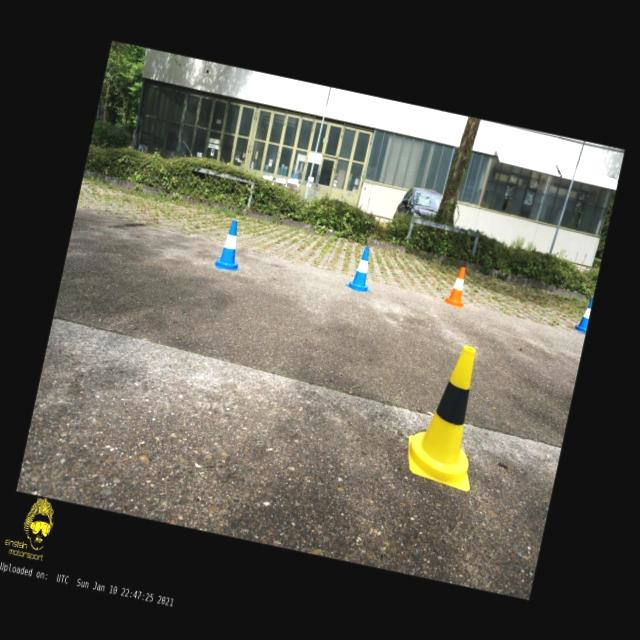blue_cone: (213, 218, 247, 272), (344, 245, 378, 293), (574, 296, 592, 334)
orange_cone: (443, 264, 471, 308)
yellow_cone: (400, 338, 498, 492)
